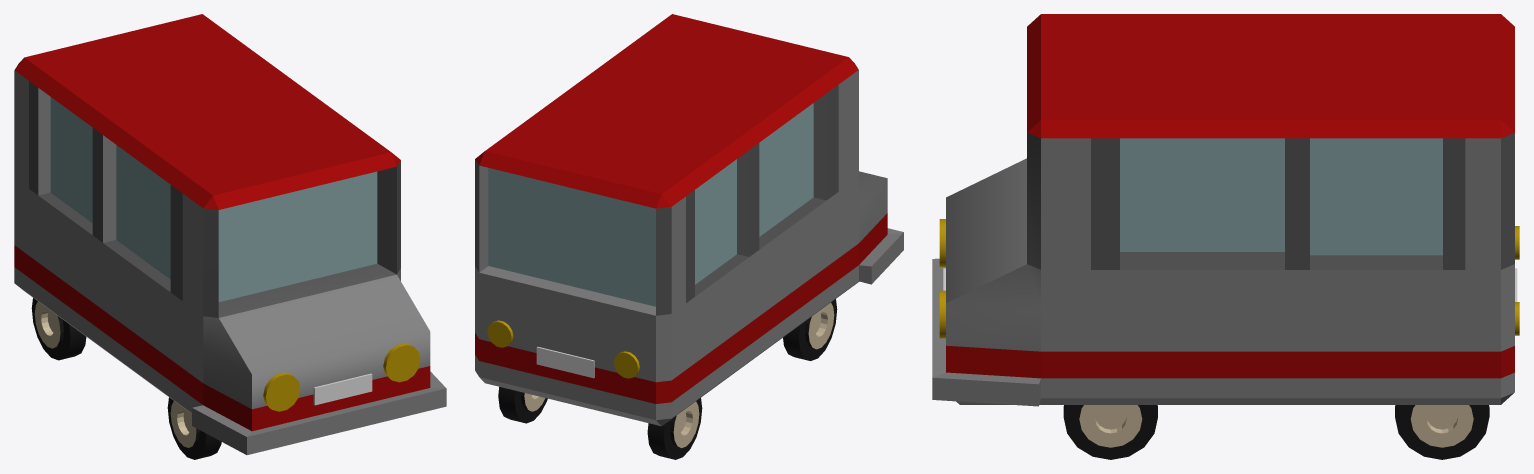
File: Ncar1 (7).fbx
3 views of the same model, side by side, from view 1: azimuth 30°, elevation 25°; view 2: azimuth 150°, elevation 25°; view 3: azimuth 270°, elevation 25° (orthographic). The views are drawn at different scales.
Parts seen in each view (by area): view 1: car7; view 2: car7; view 3: car7.
Part boxes in pixels (x1,y1,x2,y2): car7: (14,14,446,459); car7: (475,14,903,459); car7: (932,14,1519,459).
Size of the model in its own units: 4.36 by 5.32 by 8.21.
